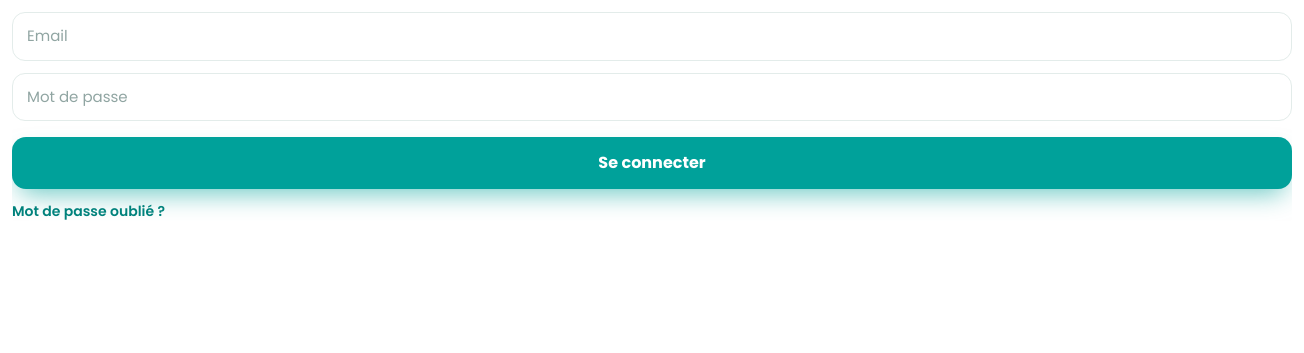
LoginForm › 403 EMAIL_NOT_VERIFIED → affiche le lien de renvoi de vérification
Type "a@b.c" into the field with placeholder "Email".
click(652, 36); type("a@b.c")  # box top-left (12, 12), bottom-right (1292, 60)
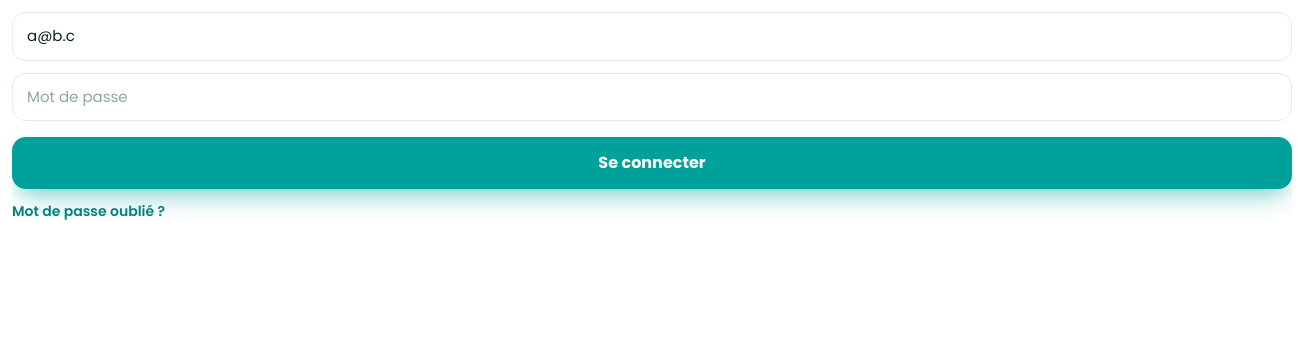
Type "Password1" into the password field with placeholder "Mot de passe".
click(652, 97); type("Password1")  # box top-left (12, 72), bottom-right (1292, 121)
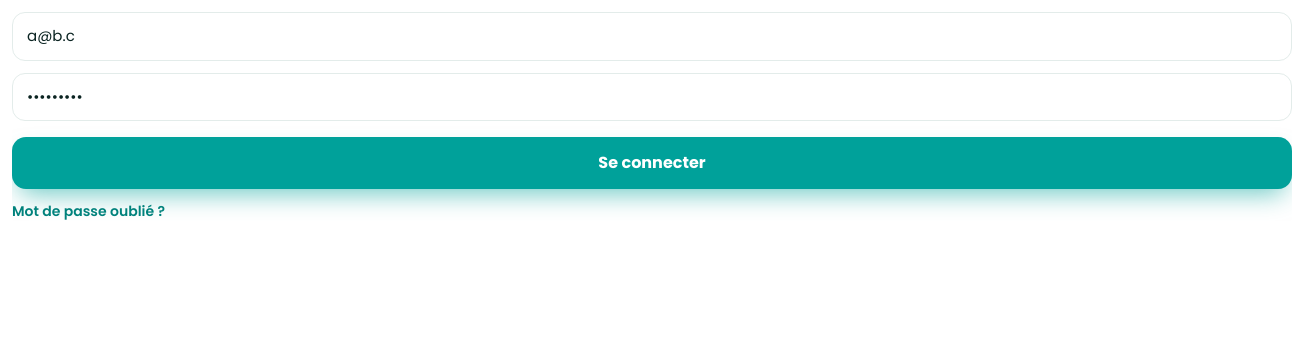
Click the button "Se connecter".
click(652, 163)  # box top-left (12, 137), bottom-right (1292, 189)
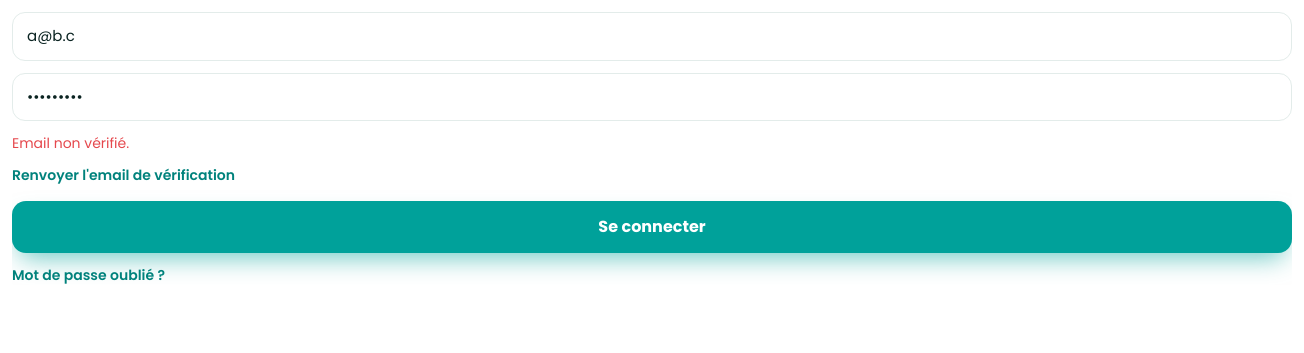
Now the text "Email non vérifié." is shown, box top-left (12, 133), bottom-right (129, 153)
Click the button "Renvoyer l'email de vérification".
click(124, 175)  # box top-left (12, 165), bottom-right (235, 185)
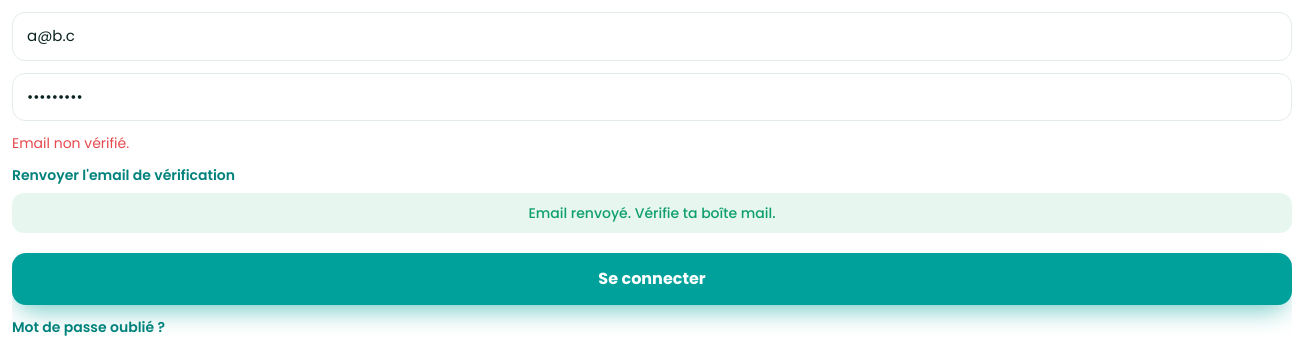
Now the text "Email renvoyé. Vérifie ta boîte mail." is shown, box top-left (12, 193), bottom-right (1292, 233)
